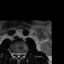CCS_normal: (17, 50, 19, 59)
LFS_stenosis: (22, 49, 24, 57)
LLS_normal: (19, 49, 22, 57)
RFS_stenosis: (13, 50, 15, 56)
RLS_normal: (15, 50, 17, 57)
